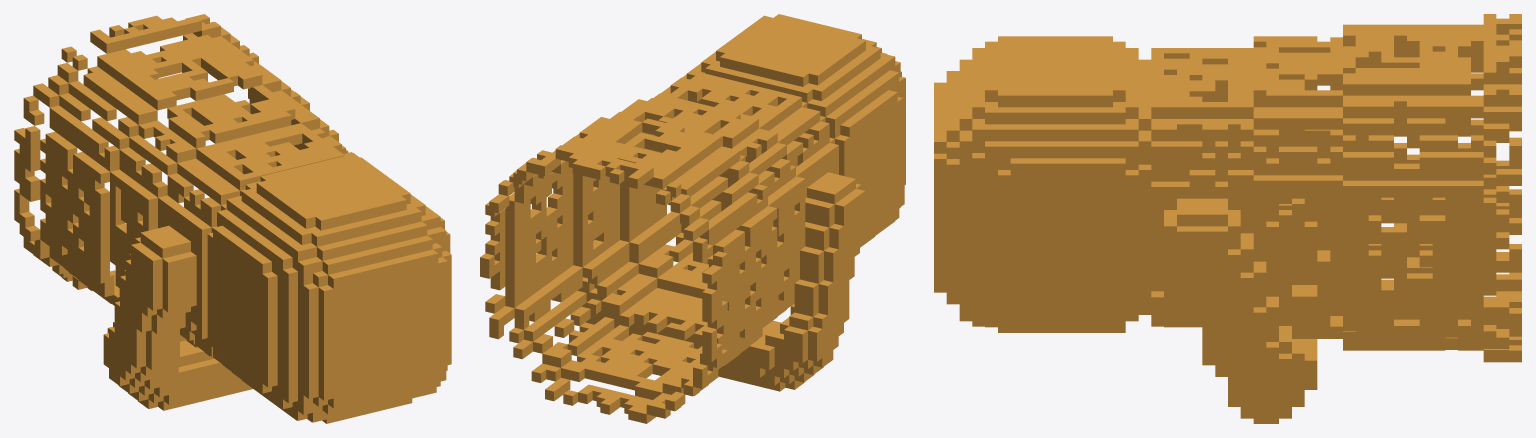
The model's file is Boss_dark_pidr.fbx.
The picture shows the model from 3 angles, left to right: view 1: azimuth 30°, elevation 25°; view 2: azimuth 150°, elevation 25°; view 3: azimuth 270°, elevation 25°; orthographic projection. The views are drawn at different scales.
Parts seen in each view (by area): view 1: Untitled.046; view 2: Untitled.046; view 3: Untitled.046.
Part boxes in pixels (x1,y1,x2,y2): Untitled.046: (14,14,451,423); Untitled.046: (480,14,905,423); Untitled.046: (934,14,1521,423).
Bounding box in the file's own units: 270 × 280 × 460.
